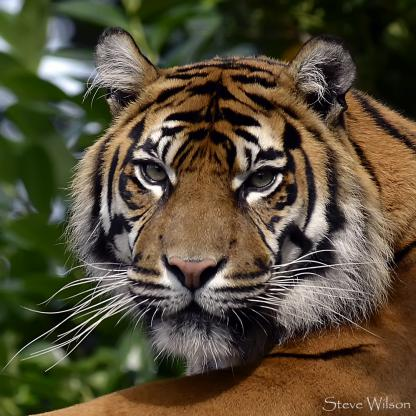tiger: (44, 25, 382, 390)
